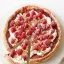pizza: (4, 6, 59, 61)
